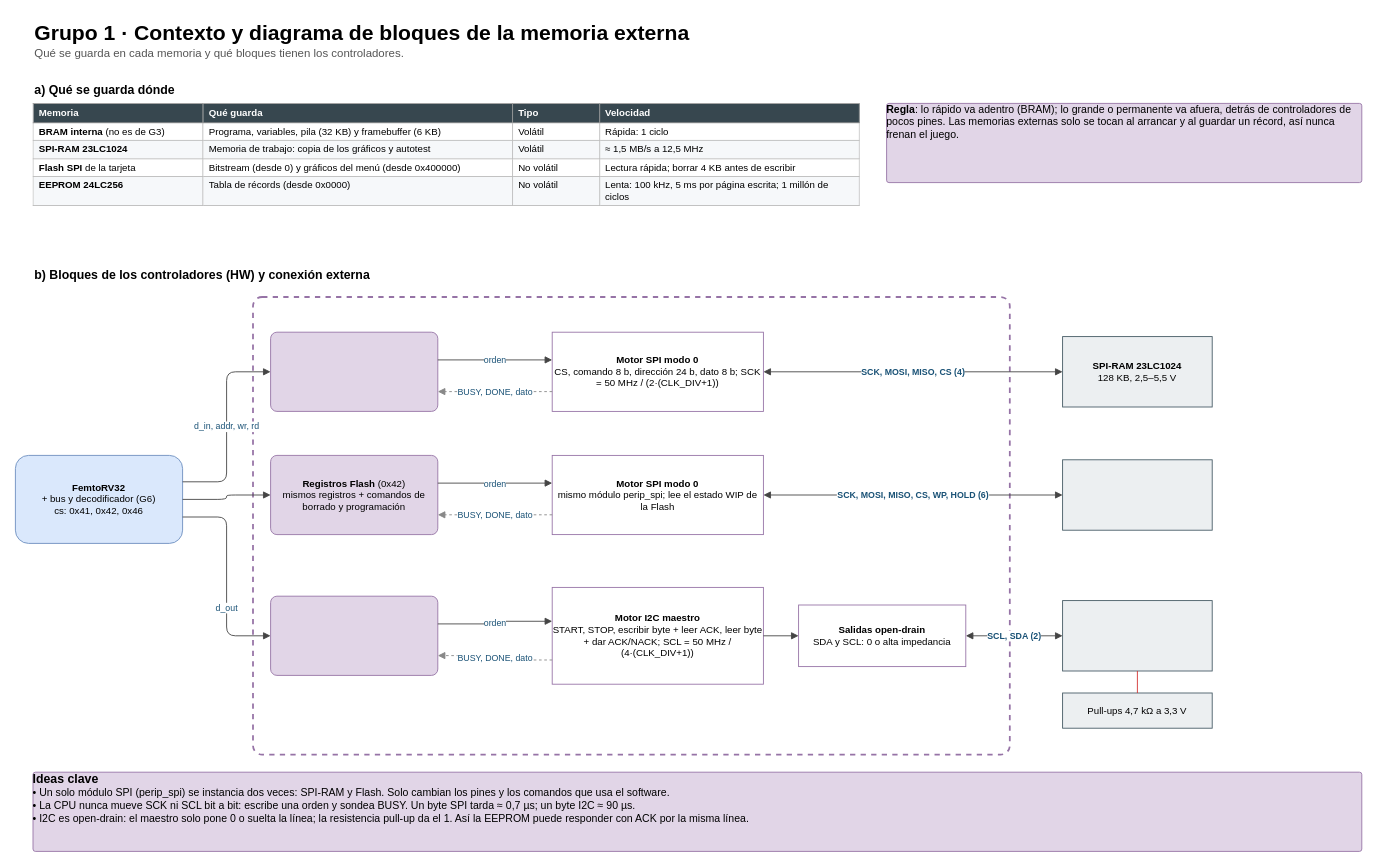
This 1377x867 diagram has some shape labels left out. Here are the shapes that lost their labels. From the top down, the box of each, then its label:
(270, 331, 438, 411): Registros SPI-RAM (0x41) CONTROL · ADDR · WDATA · RDATA · STATUS · CLK_DIV
(1062, 459, 1212, 530): Flash SPI de la tarjeta bitstream + gráficos
(252, 296, 1010, 755): Controladores de memoria · Grupo 1 · Memoria externa
(270, 595, 438, 675): Registros I2C (0x46) CONTROL · TX_DATA · RX_DATA · STATUS · CLK_DIV
(1062, 600, 1212, 671): EEPROM 24LC256 32 KB, dirección 0x50
